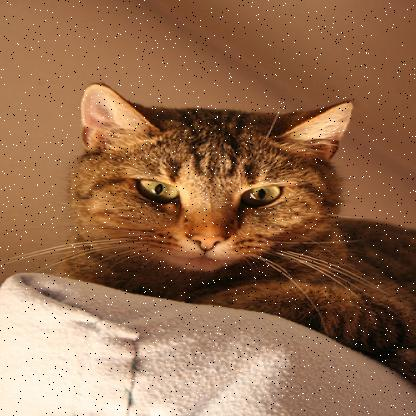cat: (70, 73, 406, 336)
